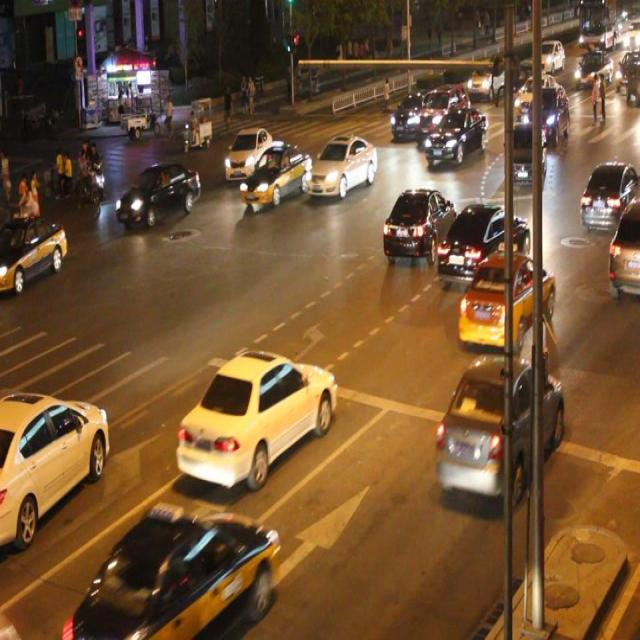car: (68, 505, 277, 640), (177, 349, 336, 487), (435, 351, 562, 500), (1, 388, 110, 544), (456, 250, 554, 346), (435, 200, 527, 281), (381, 185, 457, 261), (116, 160, 200, 226), (1, 215, 67, 289), (304, 132, 377, 196), (239, 143, 311, 205), (576, 158, 640, 227), (425, 106, 486, 164), (415, 81, 469, 144), (606, 198, 640, 297), (224, 128, 274, 180), (389, 90, 440, 140), (508, 122, 544, 180)
